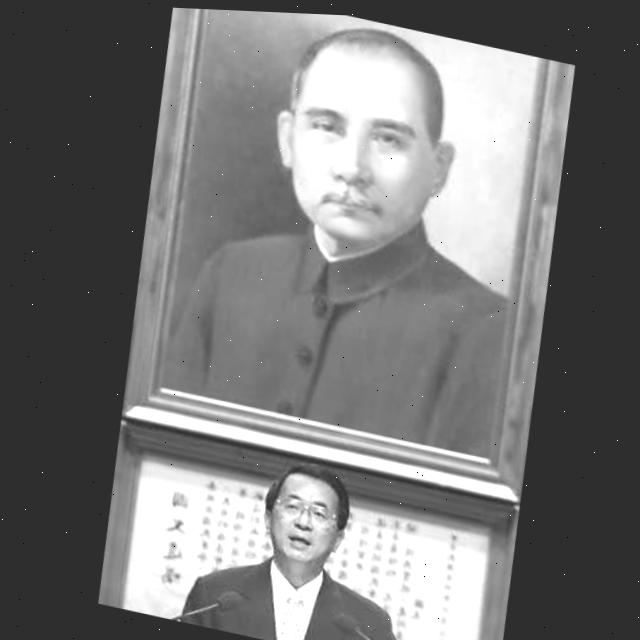face: (243, 12, 474, 293), (257, 455, 351, 586)
